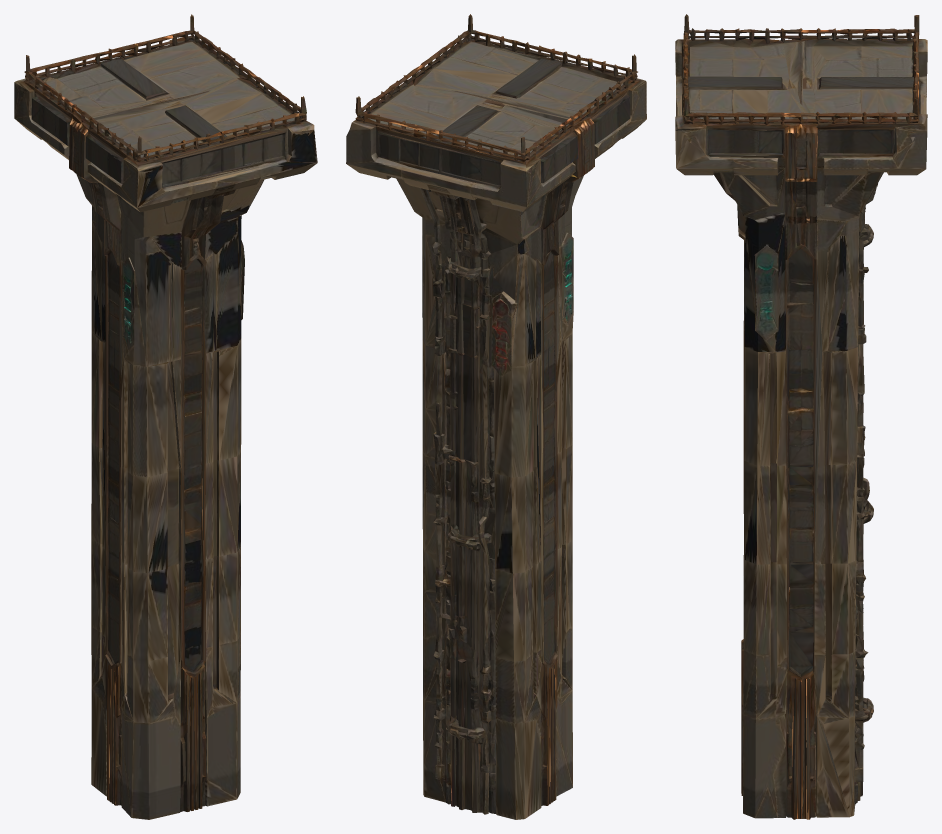
3 renders of one model, left to right at view 1: azimuth 30°, elevation 25°; view 2: azimuth 150°, elevation 25°; view 3: azimuth 270°, elevation 25°, orthographic. The views are drawn at different scales.
Visible parts, largest first — view 1: s05; view 2: s05; view 3: s05.
Boxes of the visible parts, box(x1,y1,x2,y2) form: s05: box(14, 14, 317, 819); s05: box(346, 14, 646, 819); s05: box(675, 14, 927, 819).
Bounding box in the file's own units: 7.51 × 28 × 8.7.
Materials: 1 (1 with a texture image).
